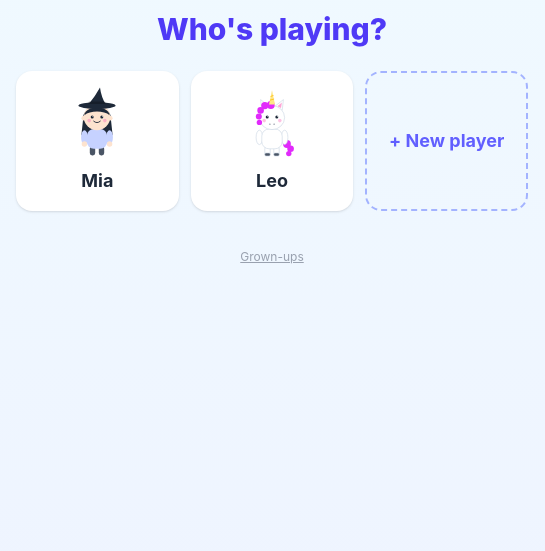
ProfilePickerScreen › says try again on the wrong picture and does not log in
Click the button "Mia" at (97, 141), box [16,71,179,211]
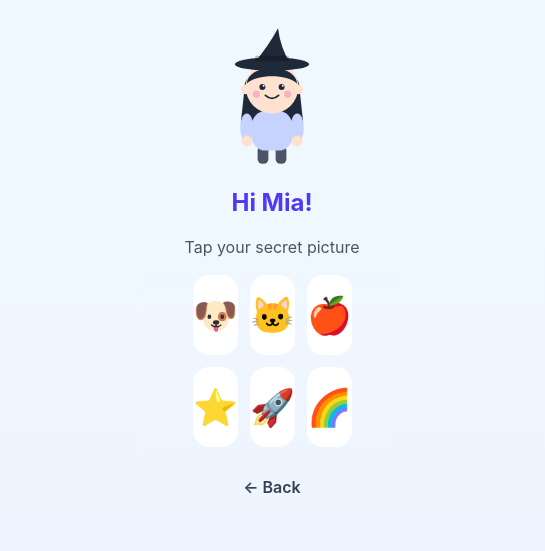
Click the button "🚀" at (272, 407), box [250,367,294,447]
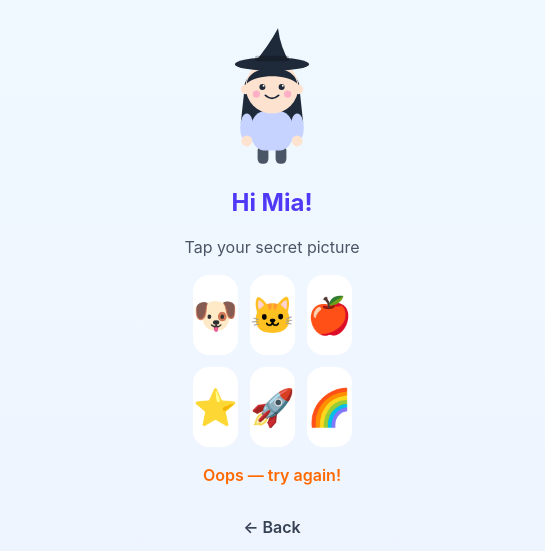
expect the text "Oops — try again!" is shown: met, box [203,463,341,487]
